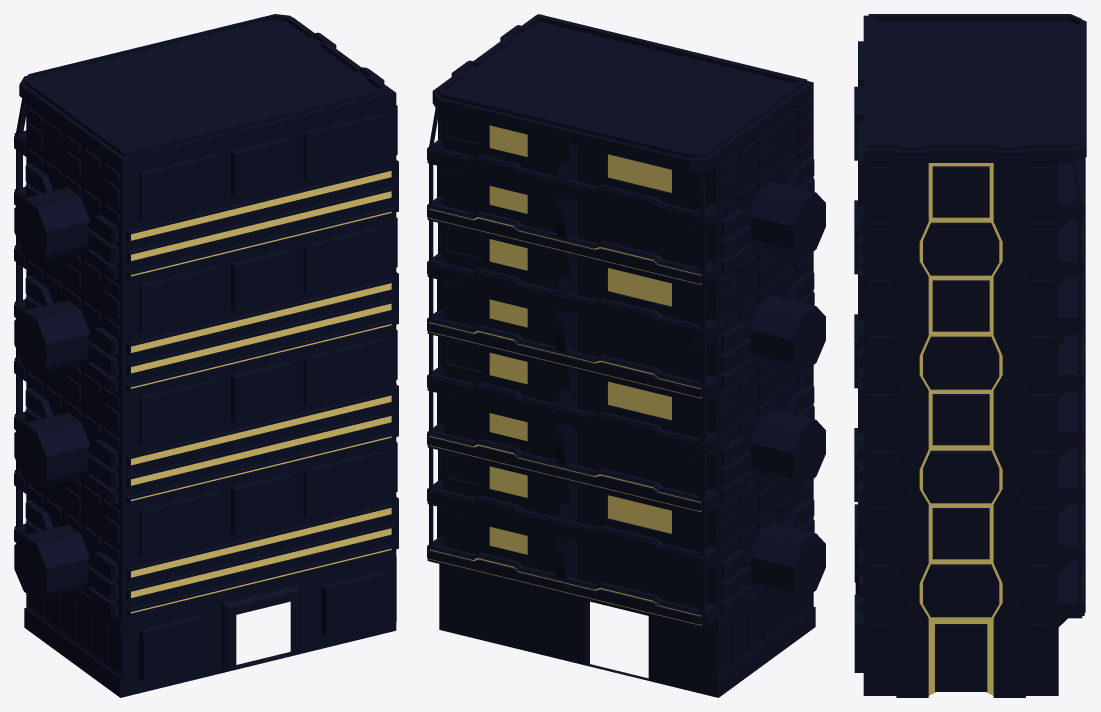
Rendered from building5.fbx.
The picture shows the model from 3 angles, left to right: view 1: azimuth 30°, elevation 25°; view 2: azimuth 150°, elevation 25°; view 3: azimuth 270°, elevation 25°; orthographic projection.
Parts seen in each view (by area): view 1: Cube.006; view 2: Cube.006; view 3: Cube.006.
Part boxes in pixels (<box>): Cube.006: <box>14,14,398,697</box>; Cube.006: <box>427,14,825,697</box>; Cube.006: <box>854,14,1086,697</box>.
Size of the model in its own units: 2373 by 3811 by 1462.
